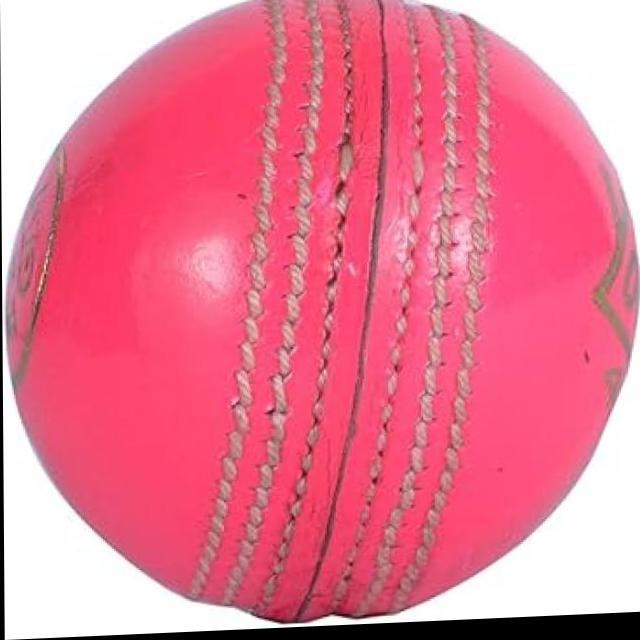cricket ball: (5, 0, 639, 628)
